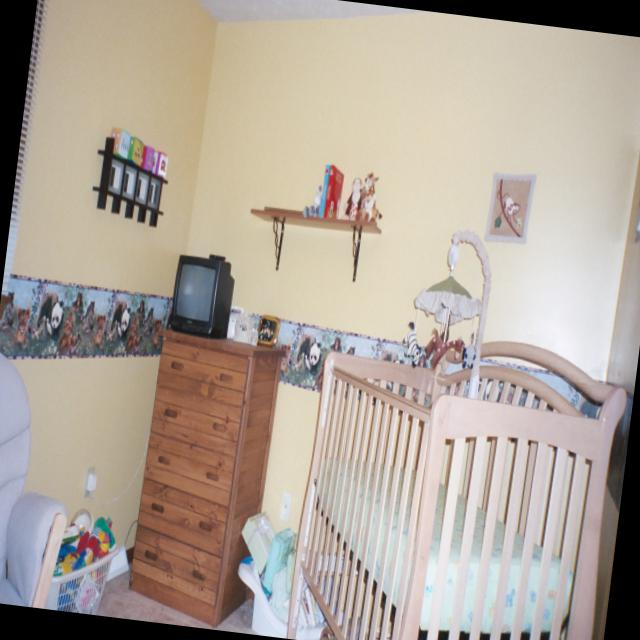2001: (359, 238, 555, 372), (165, 229, 306, 315), (585, 263, 640, 446)
armchair crop: (96, 482, 293, 624), (278, 465, 437, 640)
basket crop: (121, 265, 157, 291)
bouquet: (215, 278, 263, 319)
bowl -X: (80, 285, 110, 296)
cabinets: (164, 324, 326, 406), (19, 288, 140, 381), (62, 161, 159, 261), (13, 336, 75, 434)
ceiling beam: (35, 0, 640, 202)
ceiling lamps: (425, 193, 472, 235), (150, 48, 181, 70), (584, 71, 614, 87)
ceiling light: (121, 166, 218, 188)
chair -occluded-: (508, 450, 626, 593), (331, 412, 417, 516), (400, 351, 468, 429), (333, 328, 390, 418), (390, 328, 437, 354), (508, 348, 537, 370)
counter bottom: (174, 304, 338, 330), (27, 284, 139, 300), (7, 314, 79, 335)
curtain crop: (346, 206, 560, 340), (557, 205, 640, 462)
decoration -X: (252, 497, 306, 560)
dishwasher: (145, 297, 164, 353)
jars: (58, 264, 104, 283)
kichen counter table: (15, 284, 139, 370)
lamp crop: (453, 363, 500, 438)
microwave oven: (23, 251, 49, 284)
plant -x: (0, 190, 48, 403), (470, 391, 530, 450), (0, 404, 18, 482), (173, 279, 201, 295)
rail crop: (255, 344, 542, 501), (0, 493, 151, 609)
small table part: (417, 433, 543, 590), (245, 542, 327, 633), (454, 620, 546, 640)
